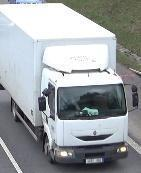Truck: (0, 3, 138, 165)
